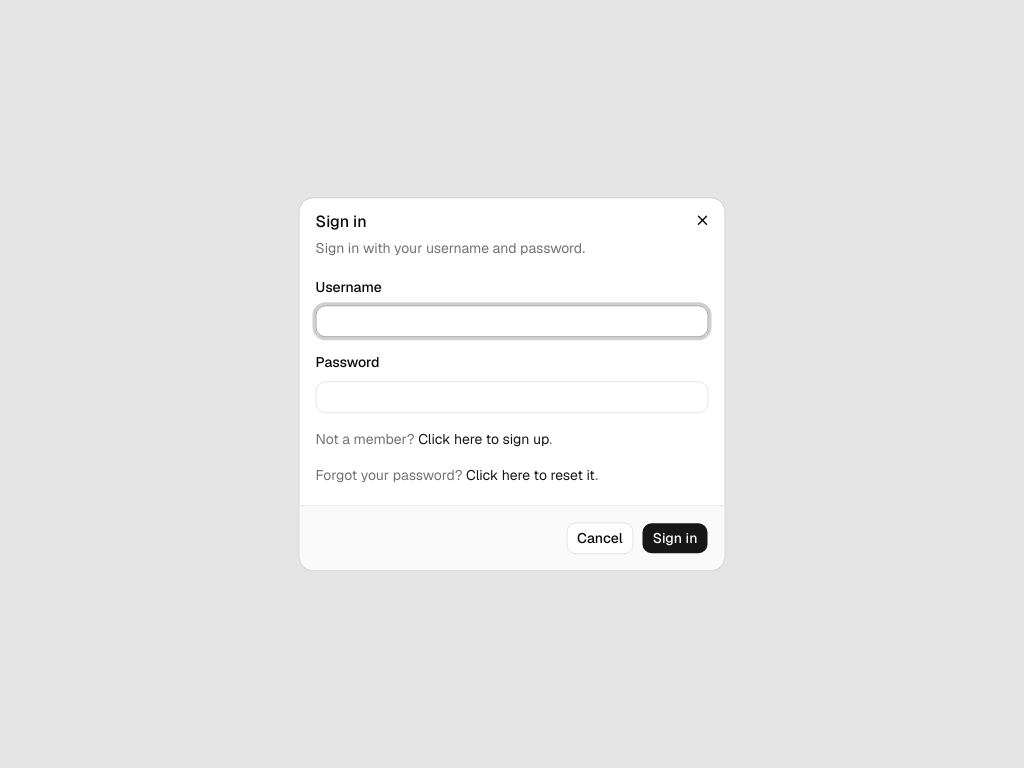
Test: SignInDialog › blocks submission and shows a validation error when the password is too weak
This screenshot has width=1024, height=768.
Type "ashketchum" into the field labelled "Username".
click(512, 322); type("ashketchum")  # box 316,306 -> 708,338
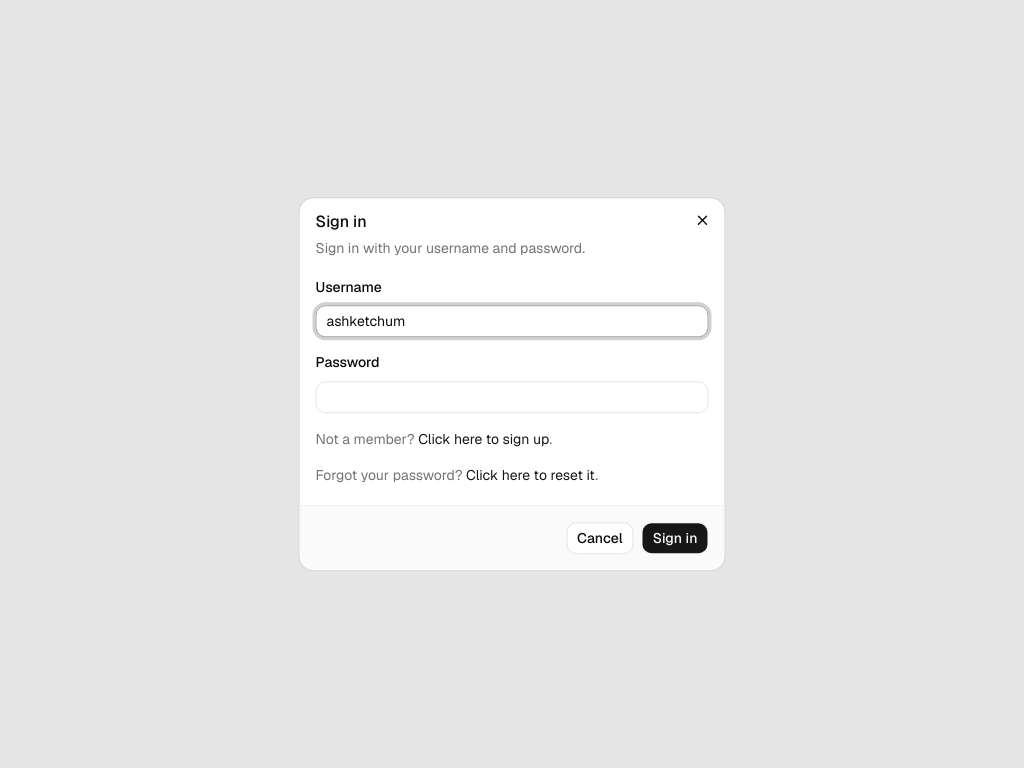
Type "onlylettershere" into the password field labelled "Password".
click(512, 397); type("onlylettershere")  # box 316,381 -> 708,413
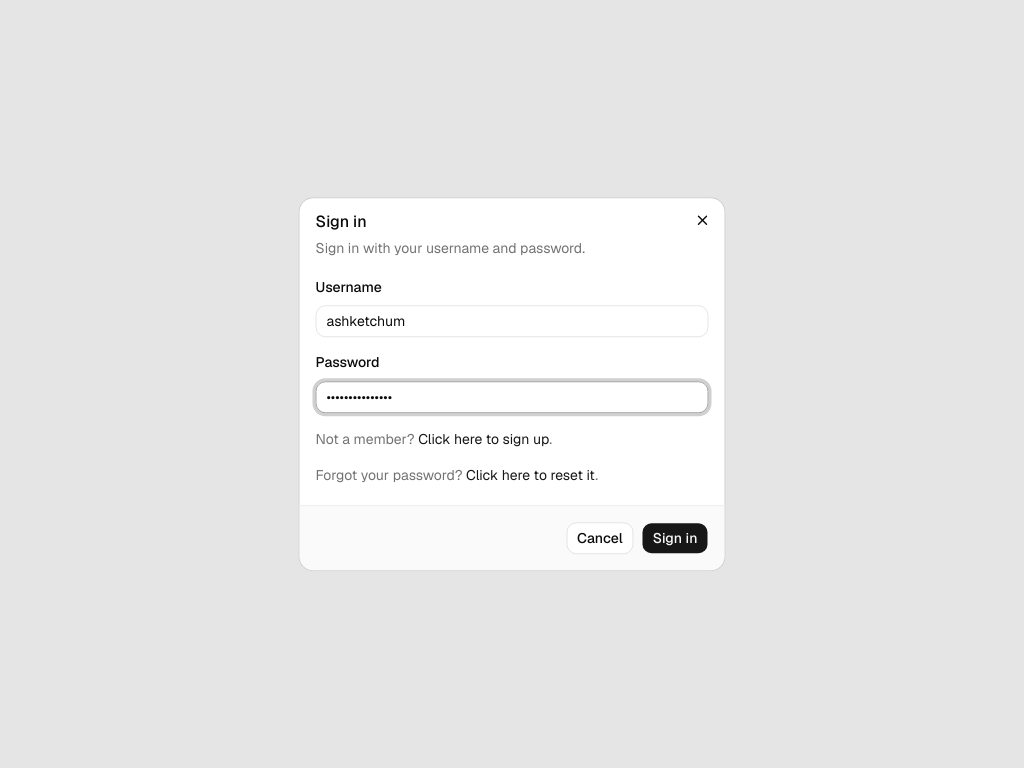
Click the button "Sign in".
click(675, 538)  # box 642,522 -> 708,554
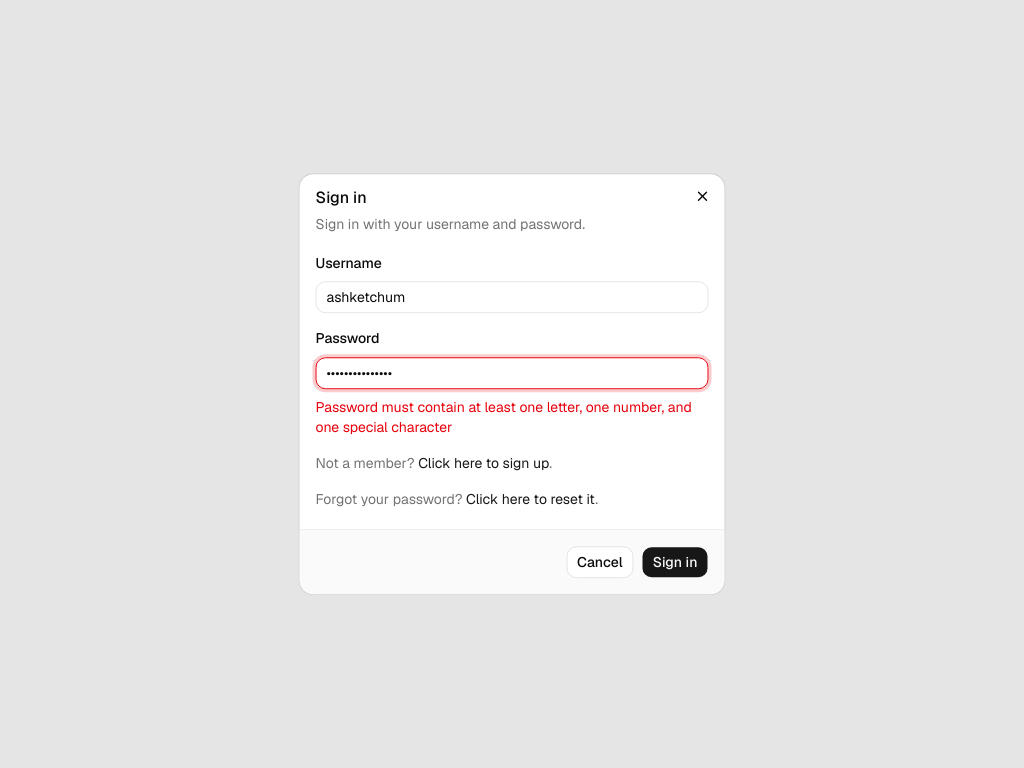
Expected: the text "Password must contain at least one letter, one number, and one special character" is shown, 316,397 -> 708,437
